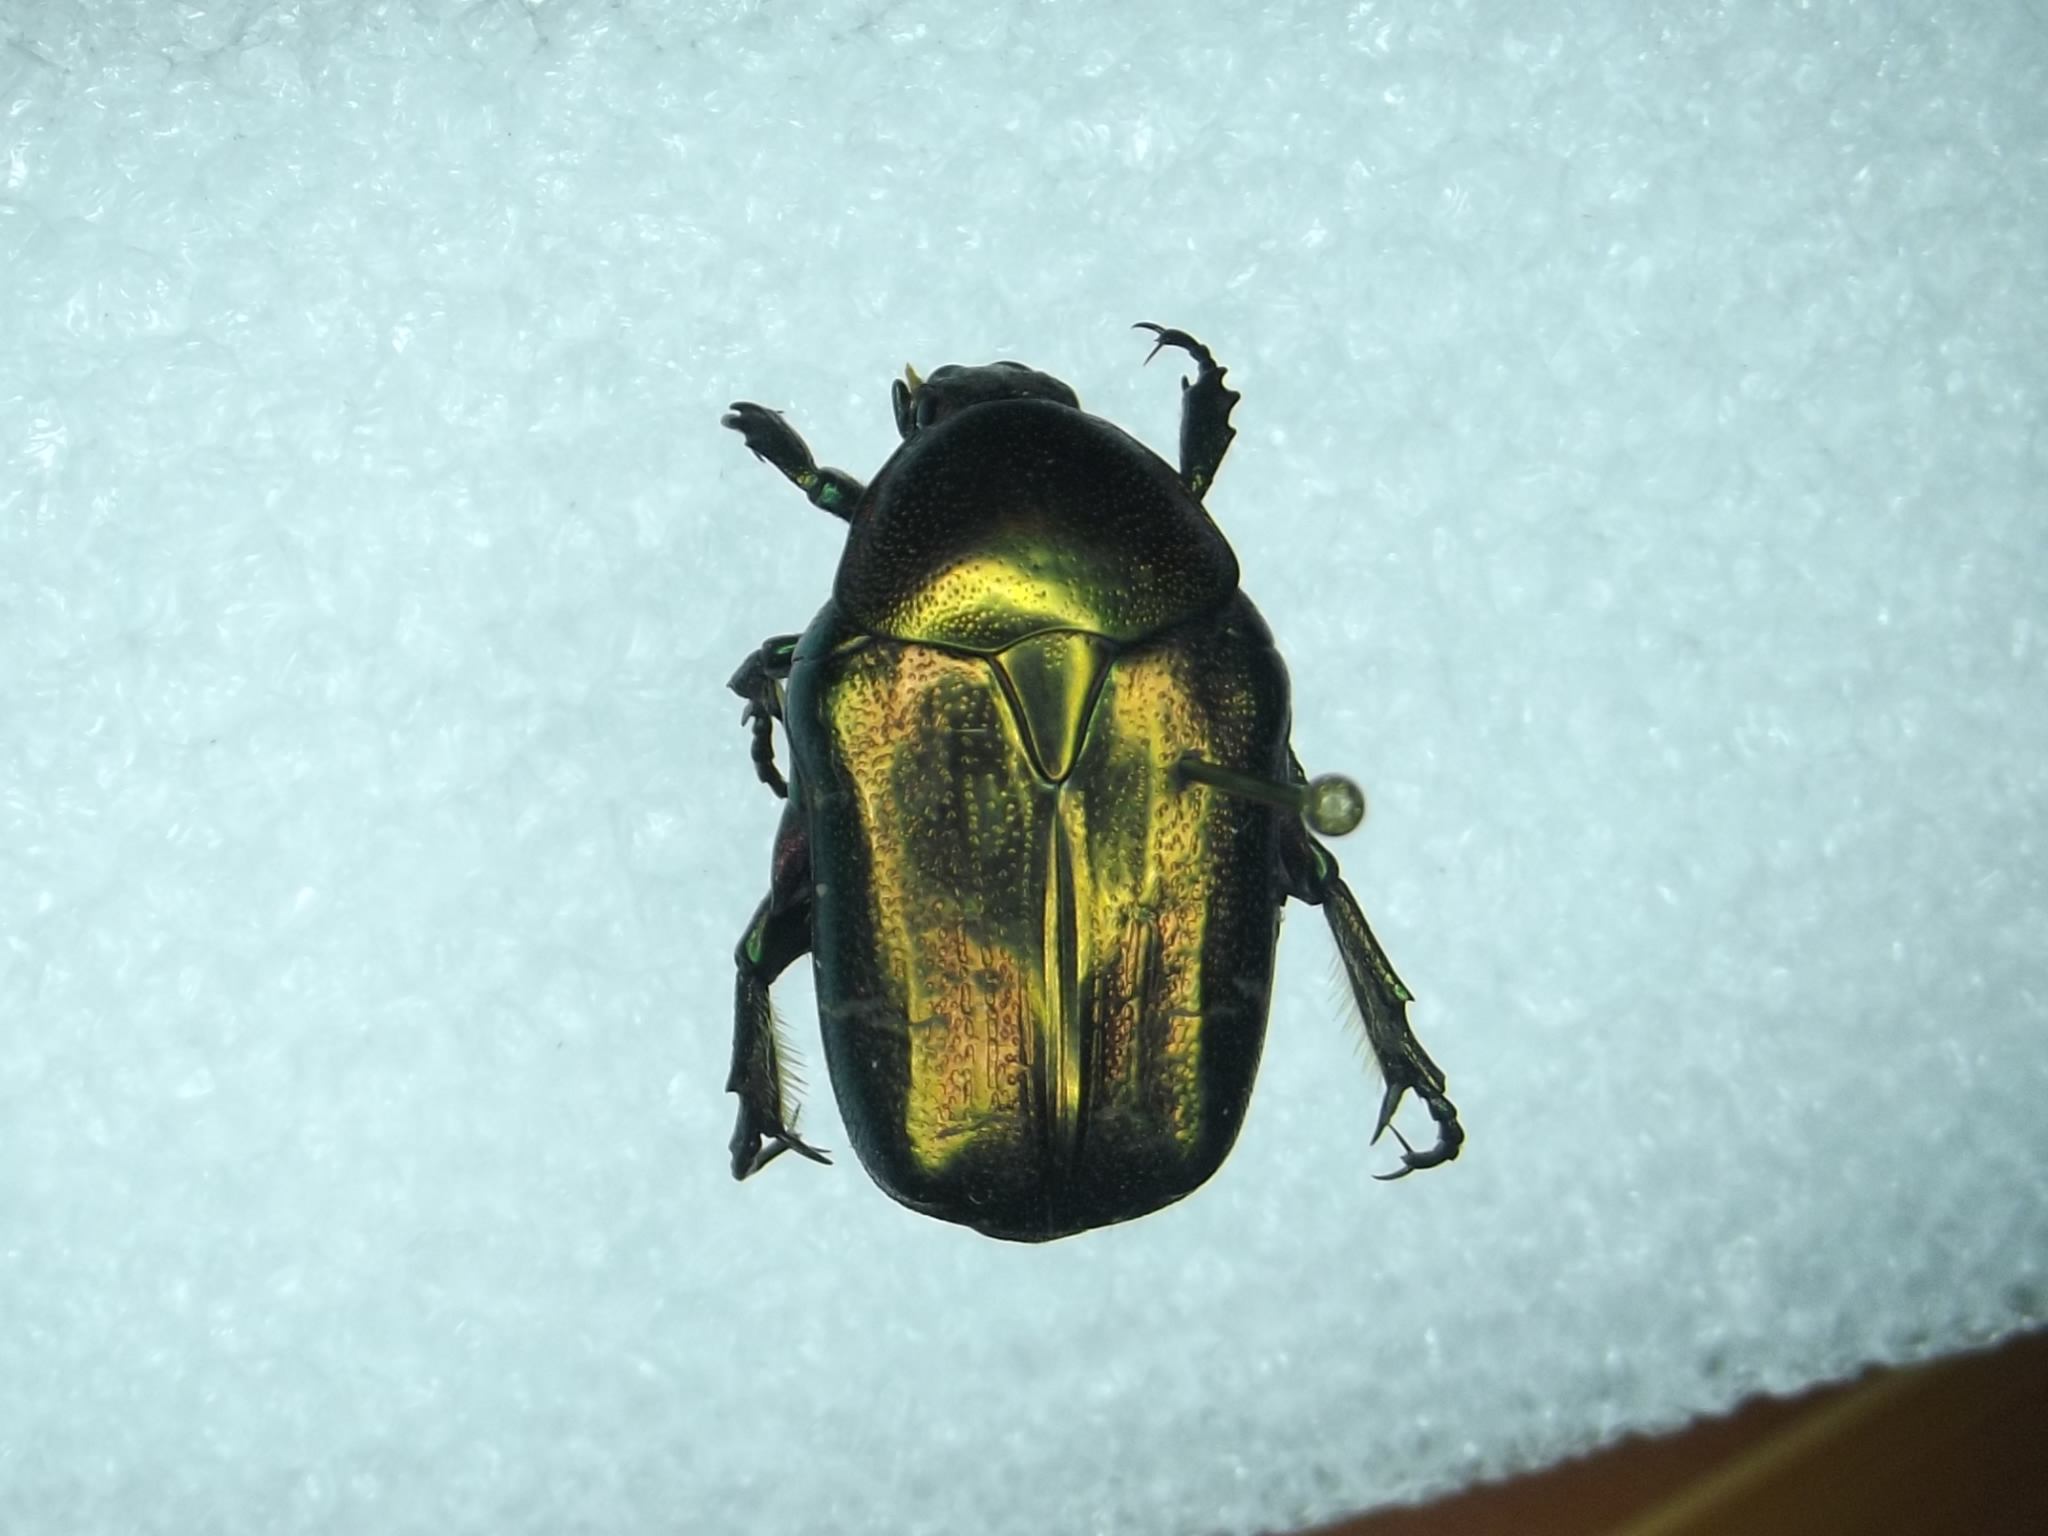Cetonia_aurata: (685, 274, 1495, 1225)
